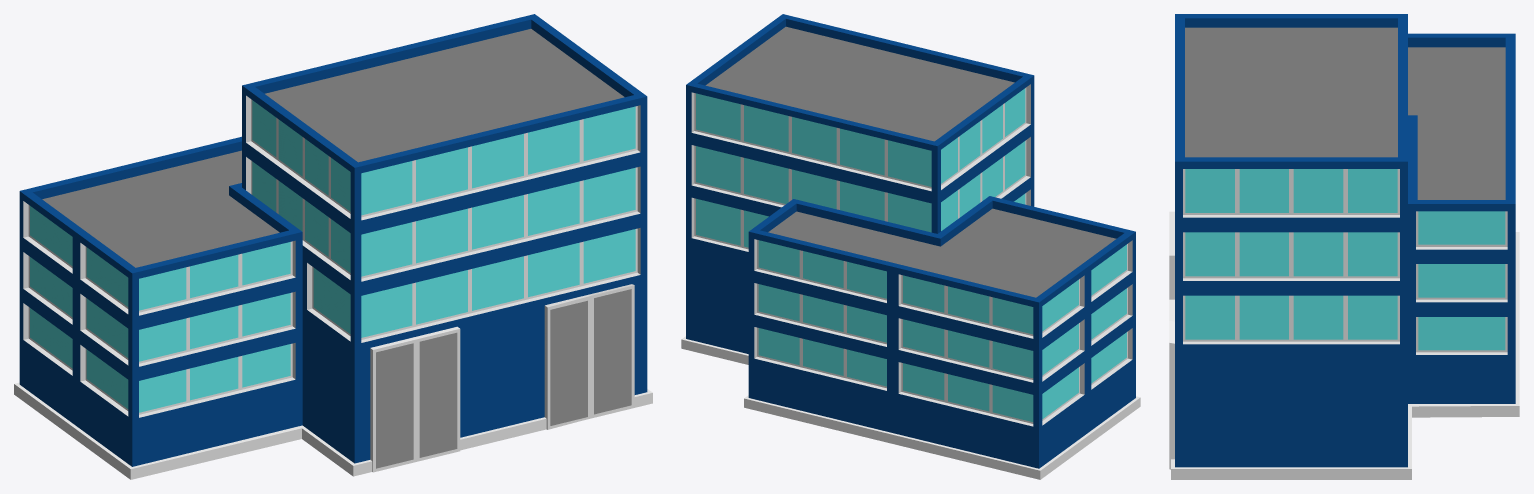
File: SM_House_20_03.FBX
3 views of the same model, side by side, from view 1: azimuth 30°, elevation 25°; view 2: azimuth 150°, elevation 25°; view 3: azimuth 270°, elevation 25° (orthographic). The views are drawn at different scales.
Visible parts, largest first — view 1: SM_House_20_03; view 2: SM_House_20_03; view 3: SM_House_20_03.
Part boxes in pixels (x1=…): SM_House_20_03: x1=14, y1=14, x2=652, y2=479; SM_House_20_03: x1=681, y1=14, x2=1140, y2=479; SM_House_20_03: x1=1169, y1=14, x2=1519, y2=479.
Size of the model in its own units: 9.63 by 6 by 6.02.
1 material, 1 textured.
